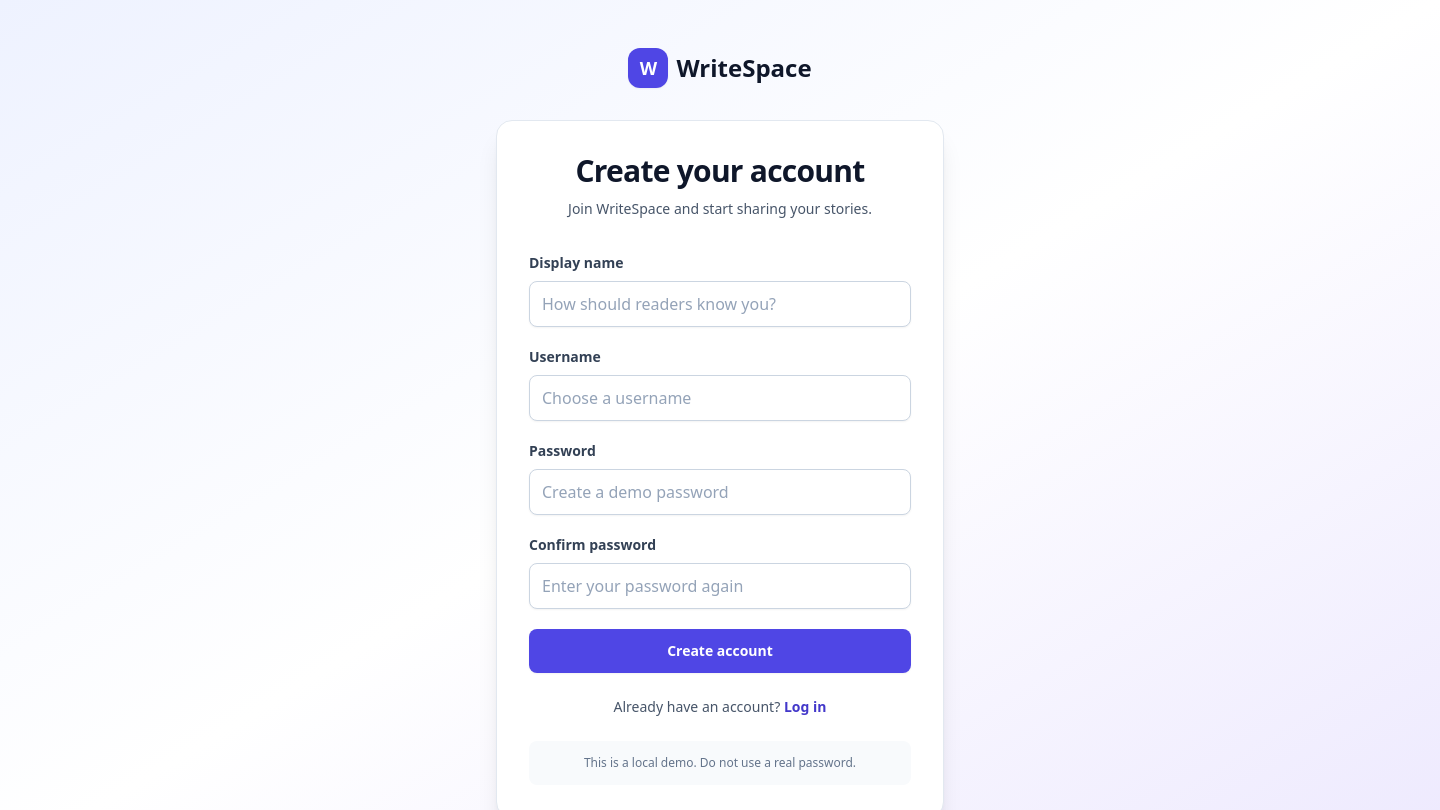
it: RegisterPage › rejects mismatched passwords with the exact validation text
Type "Alice Smith" into the field labelled "Display name" at (720, 304), box [529,281,911,327]
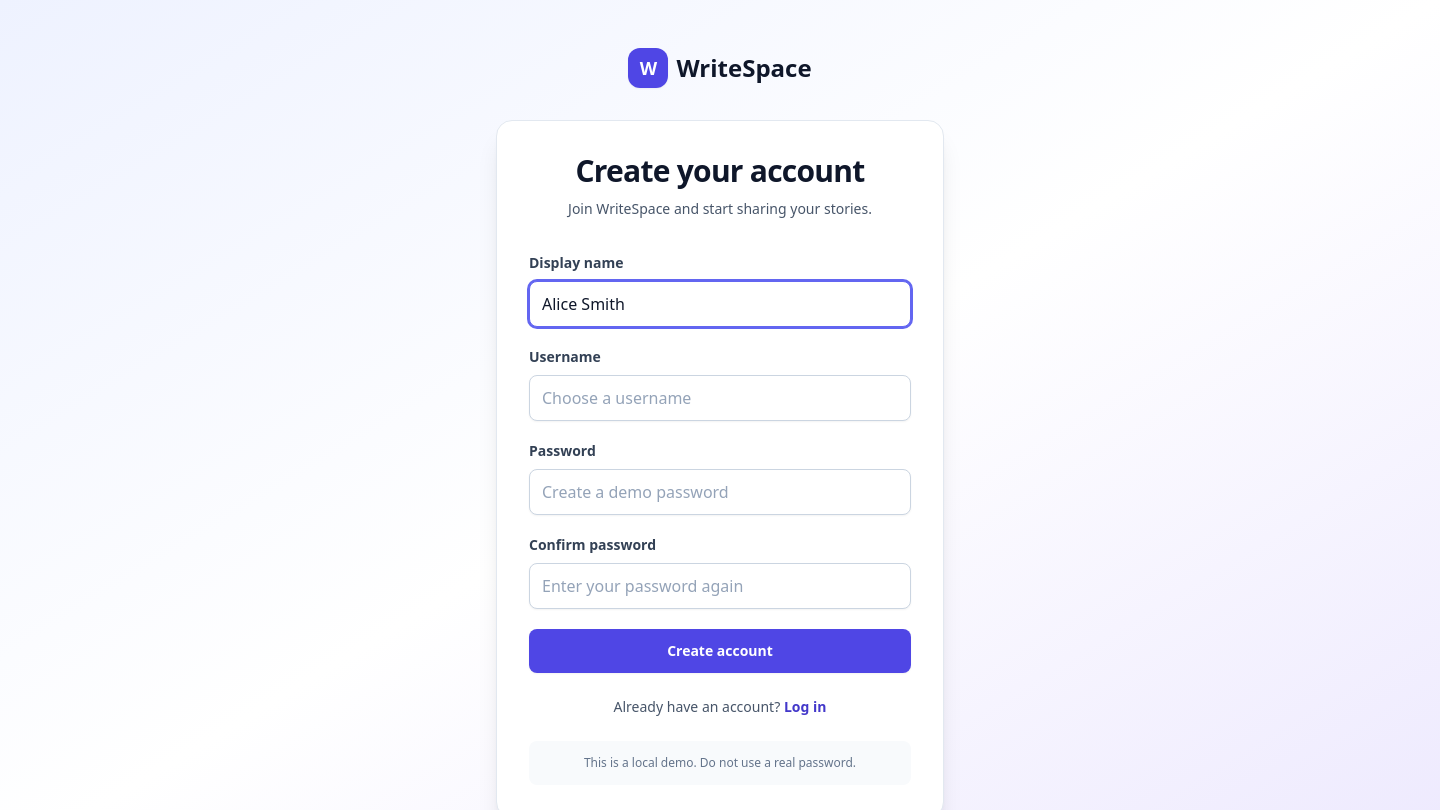
Type "alice" into the field labelled "Username" at (720, 398), box [529,375,911,421]
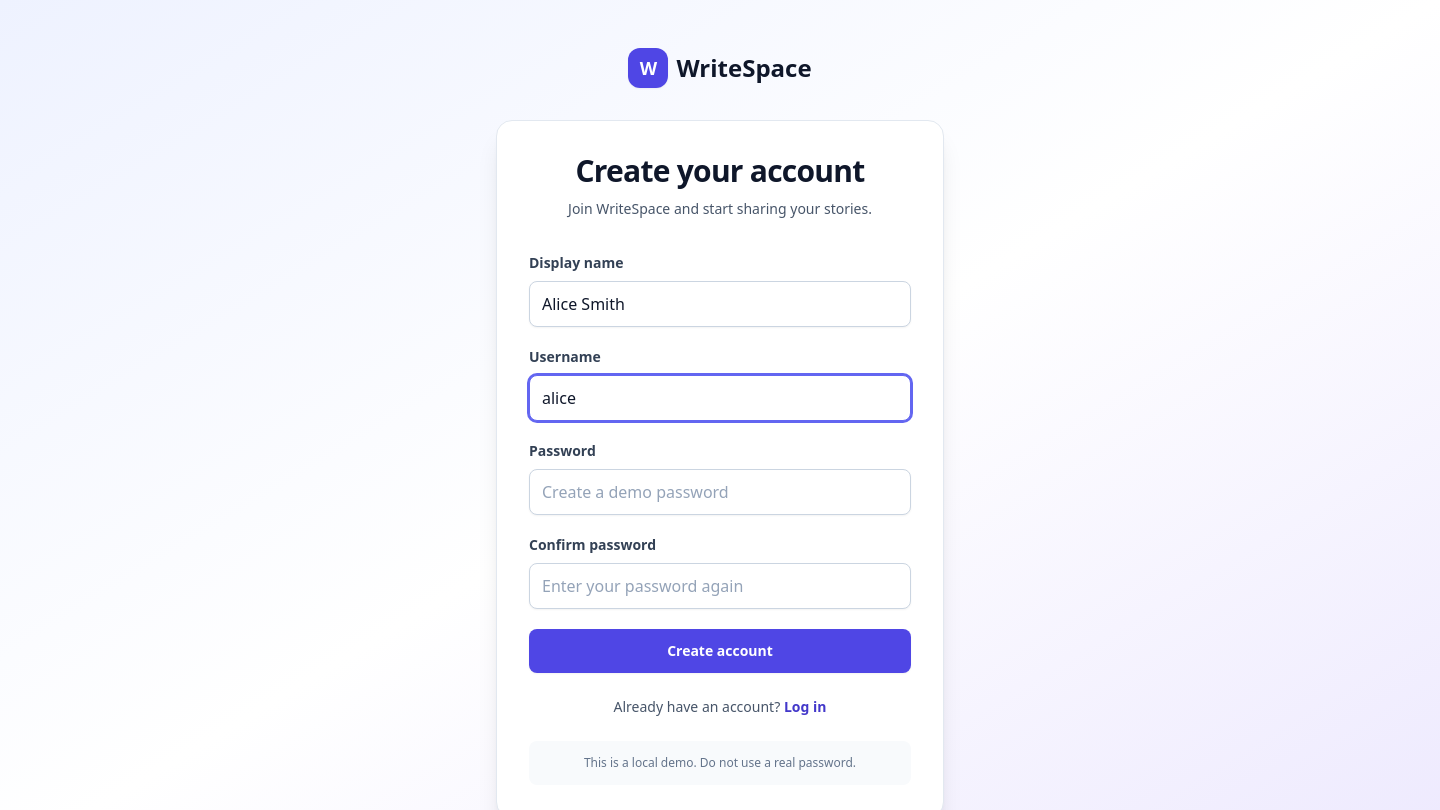
Type "demo-only" into the password field labelled "Password" at (720, 492), box [529,469,911,515]
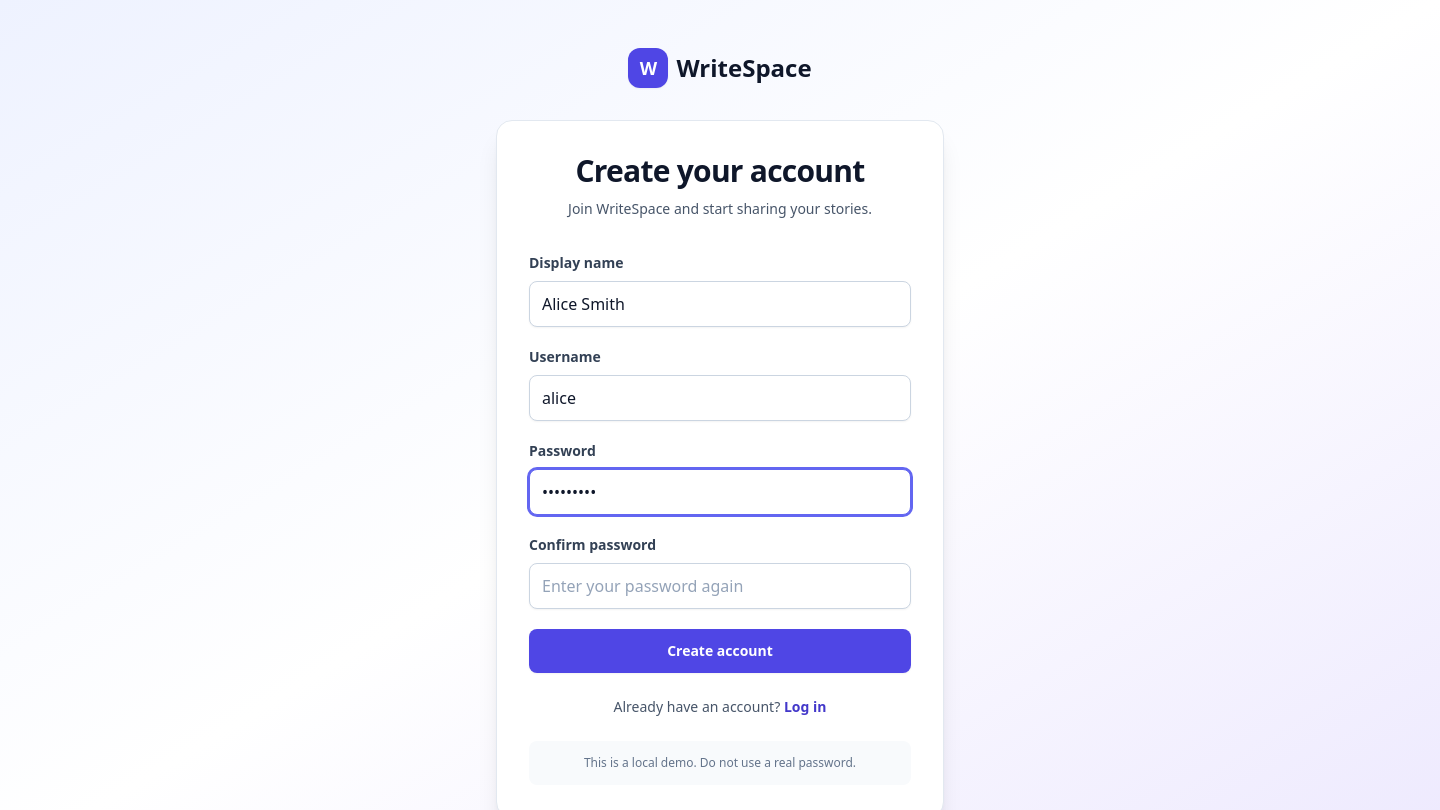
Type "different" into the password field labelled "Confirm password" at (720, 586), box [529,563,911,609]
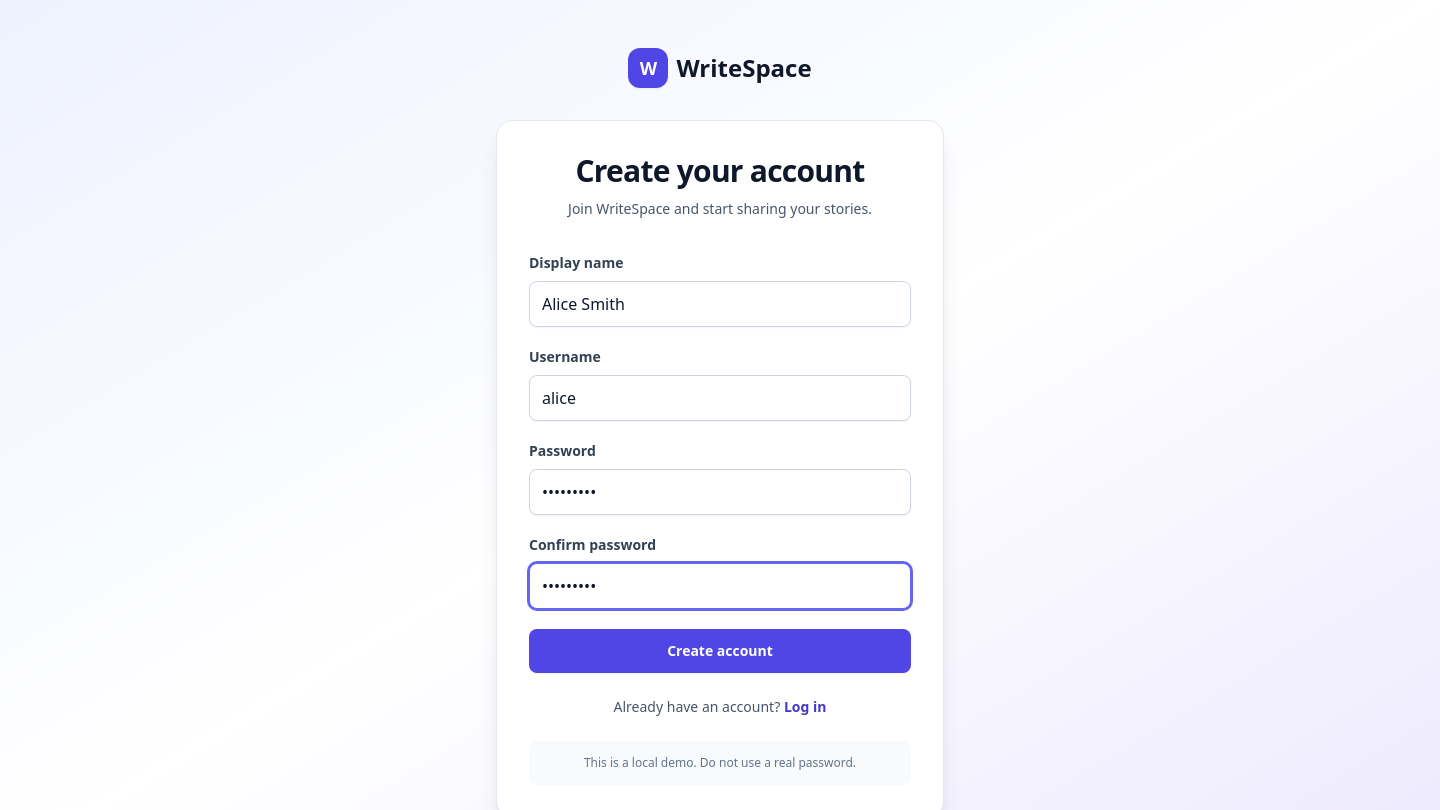
Click the button "Create account" at (720, 651), box [529,629,911,673]
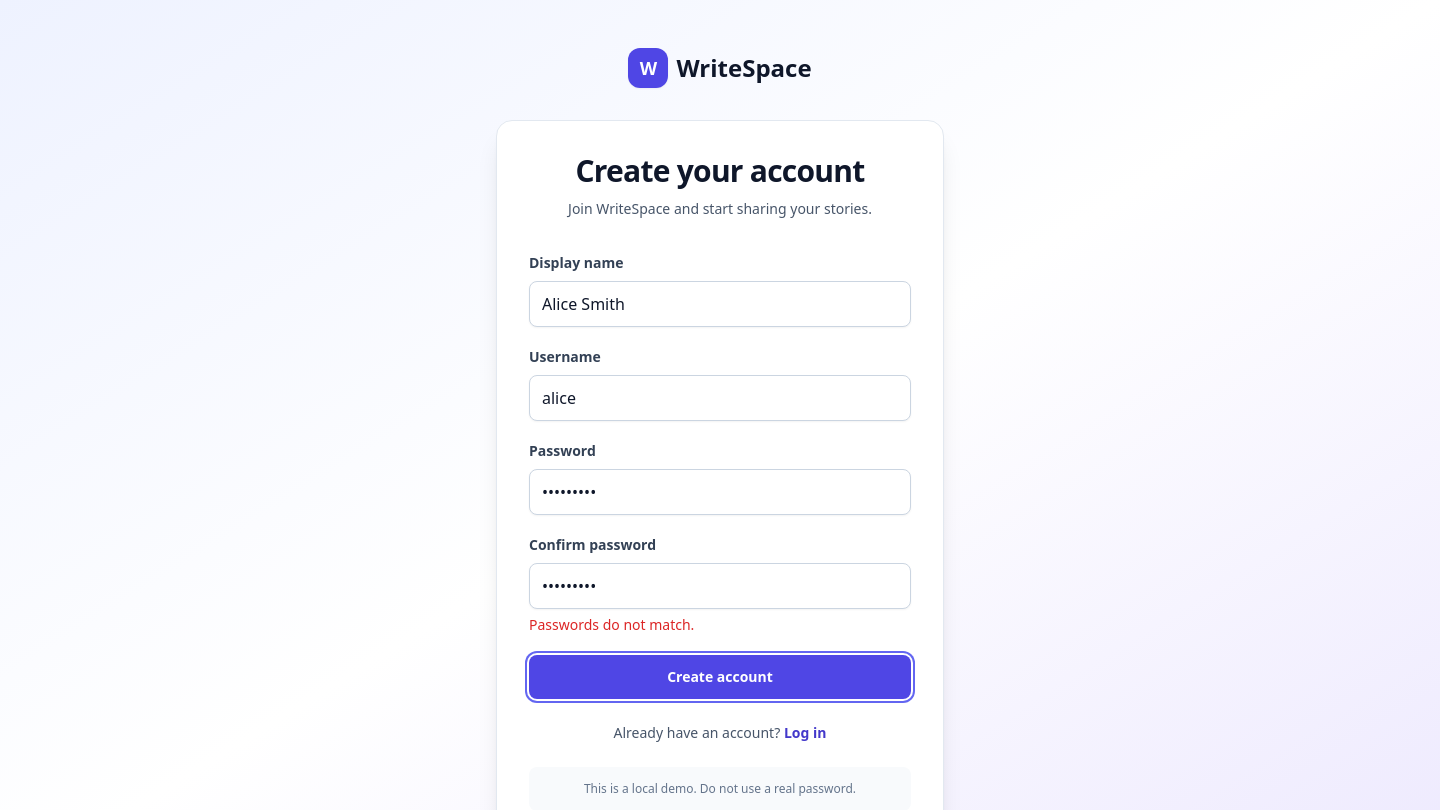
Now the text "Passwords do not match." is shown, box [529,615,694,634]
